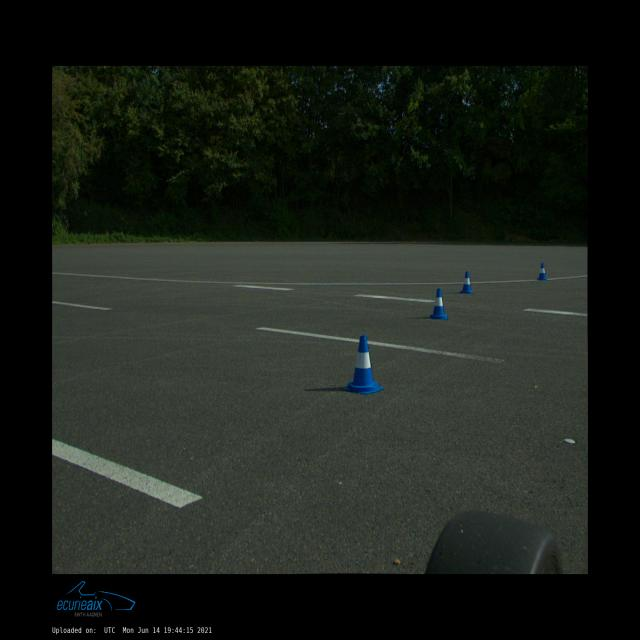blue_cone: (342, 335, 383, 394), (430, 288, 448, 320), (458, 272, 474, 294), (537, 263, 547, 280)
